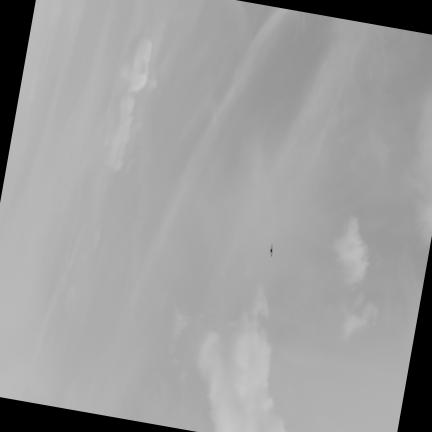Shahed: (269, 245, 271, 256)
